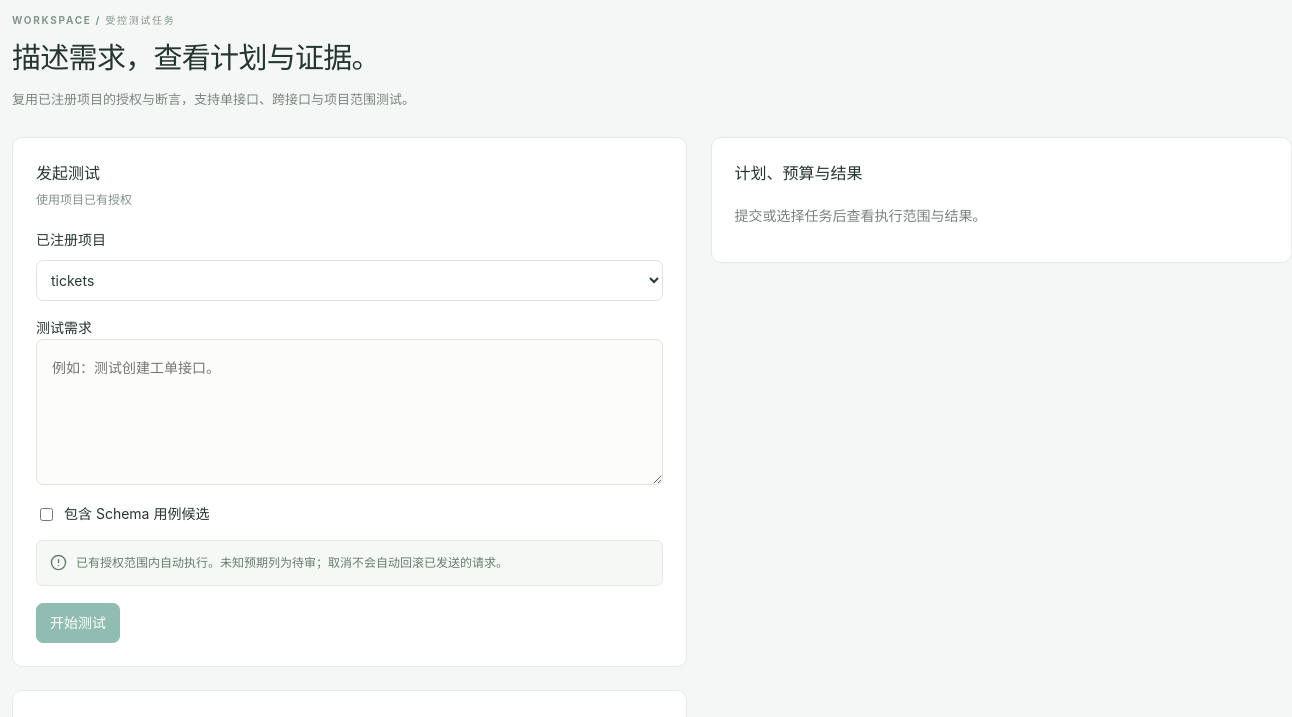
Test: structured goal drafts remain visibly unverified with unexplained requirements
Type "受理工单并核对退款" into the text box labelled "测试需求" at (349, 412), box x1=36 y1=339 x2=662 y2=485
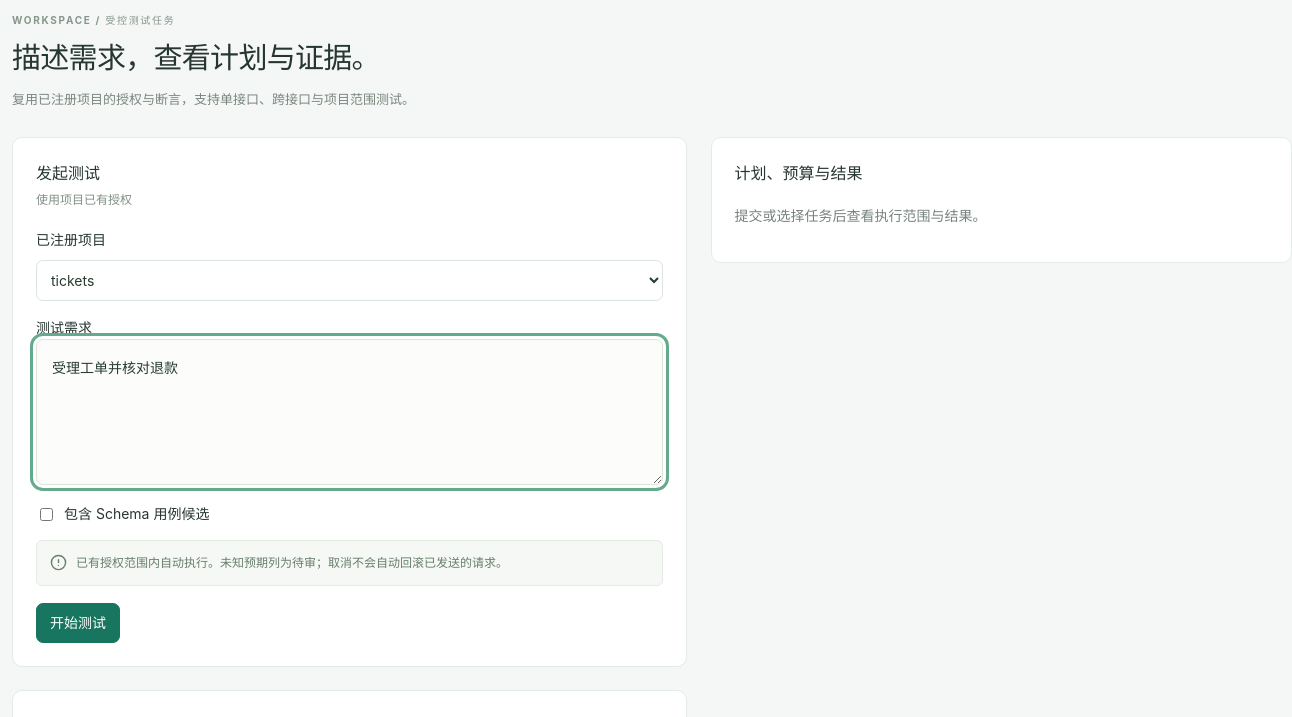
Click the button "开始测试" at (78, 623), box x1=36 y1=603 x2=120 y2=643
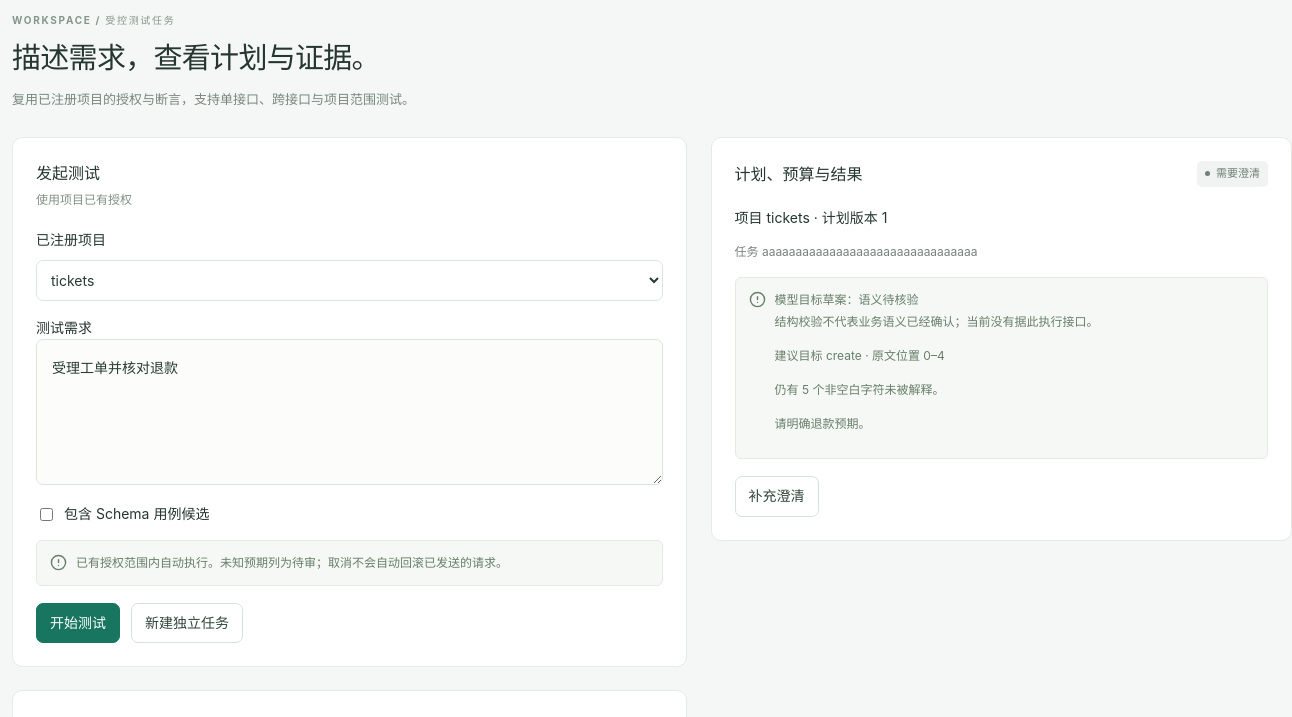
Expected: the text "模型目标草案：语义待核验" is shown, x1=774 y1=292 x2=918 y2=306
Expected: the text "仍有 5 个非空白字符未被解释。" is shown, x1=774 y1=382 x2=944 y2=397
Expected: the text "请明确退款预期。" is shown, x1=774 y1=416 x2=870 y2=431
